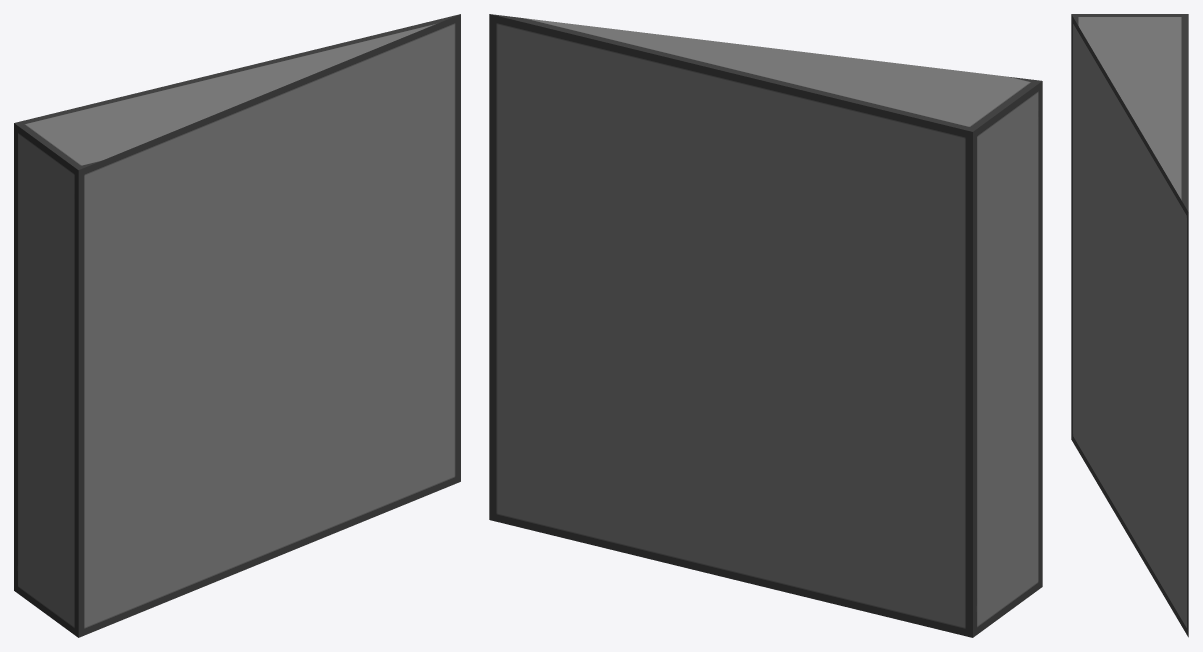
Rendered from ramp_8x2.glb.
The picture shows the model from 3 angles, left to right: view 1: azimuth 30°, elevation 25°; view 2: azimuth 150°, elevation 25°; view 3: azimuth 270°, elevation 25°; orthographic projection. The views are drawn at different scales.
Visible parts, largest first — view 1: Cube; view 2: Cube; view 3: Cube.
Part boxes in pixels (x1,y1,x2,y2): Cube: [14, 14, 460, 637]; Cube: [489, 14, 1042, 637]; Cube: [1071, 14, 1188, 637].
Bounding box in the file's own units: 8 × 8 × 2.
1 material, 1 textured.
